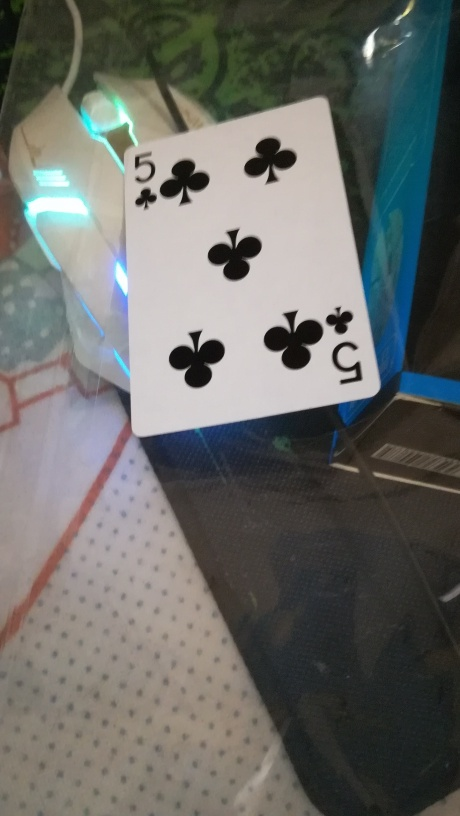mh 5: (112, 97, 386, 436)
